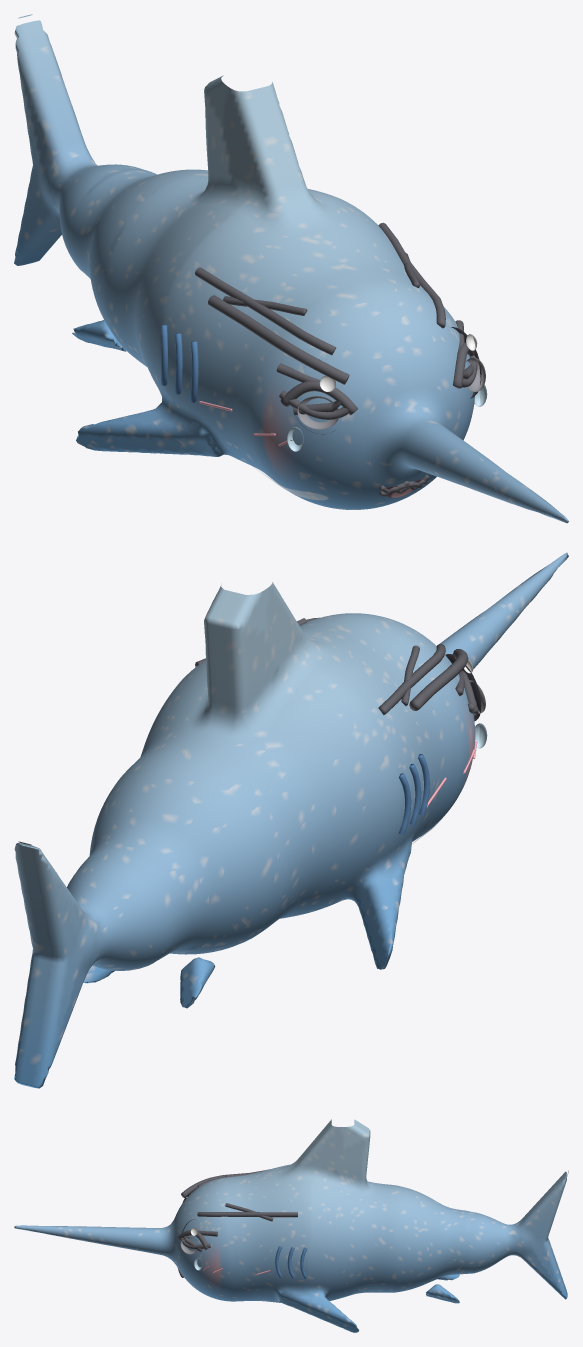
The model's file is s_sword_blue_slime.glb.
3 views of the same model, one above another, from view 1: azimuth 30°, elevation 25°; view 2: azimuth 150°, elevation 25°; view 3: azimuth 270°, elevation 25° (orthographic). The views are drawn at different scales.
Visible parts, largest first — view 1: BodyMesh, face_brows_angry, face_brow_smug, face_eyes_normal, face_eyes_happy, face_eyes_strain, face_brows_sad, face_eyes_closed; view 2: BodyMesh, face_brow_smug, face_brows_angry; view 3: BodyMesh, face_brows_angry.
Boxes of the visible parts, x1,y1,x2,y2 form: BodyMesh: (14,14,568,523); face_brows_angry: (195,222,445,355); face_brow_smug: (208,295,349,384); face_eyes_normal: (292,327,485,434); face_eyes_happy: (280,343,474,415); face_eyes_strain: (276,320,477,414); face_brows_sad: (223,253,419,315); face_eyes_closed: (279,355,477,419); BodyMesh: (14,552,568,1088); face_brow_smug: (409,649,468,710); face_brows_angry: (195,617,445,715); BodyMesh: (14,1119,568,1332); face_brows_angry: (197,1177,297,1217).
Size of the model in its own units: 1.51 by 1.56 by 4.45.
